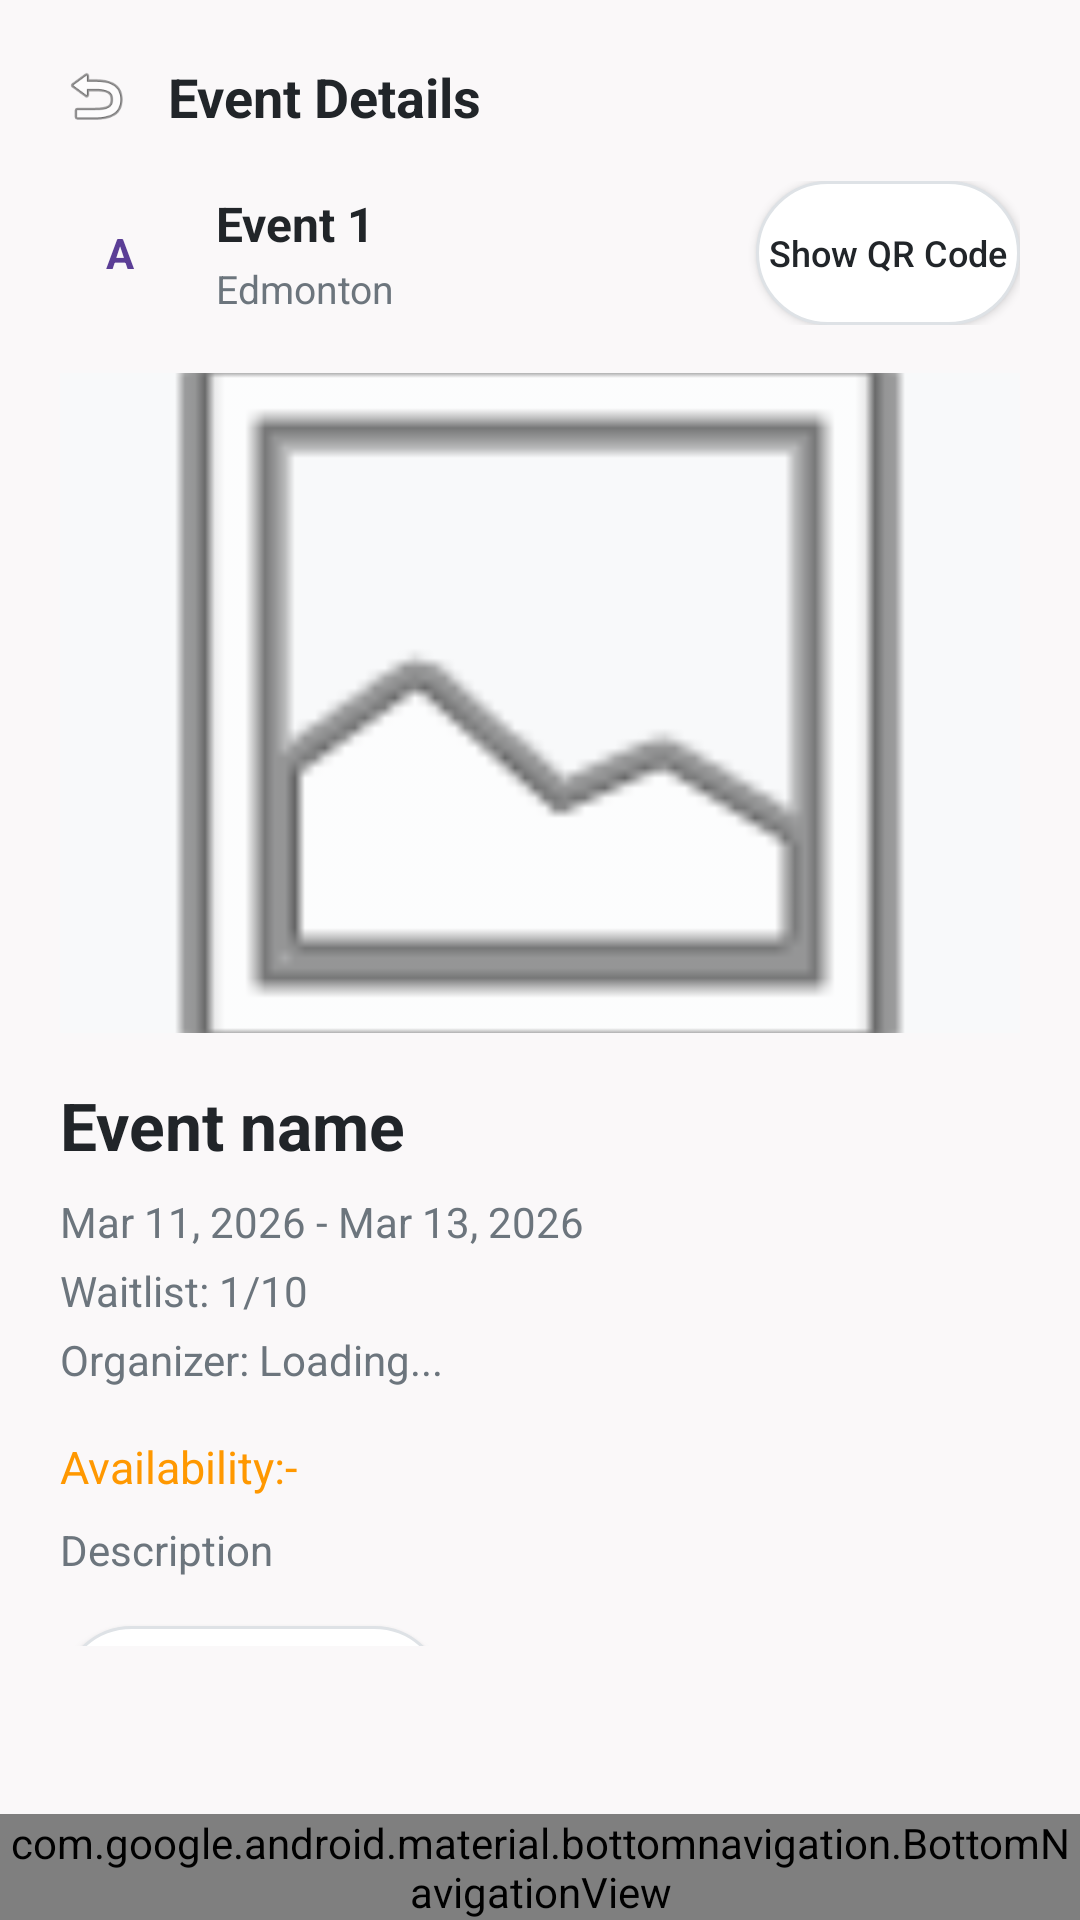

Icon bounding boxes for this 1080×1920 phone screenshot, format (x1, y1, x2, y2):
Back: (71, 73, 123, 120)
